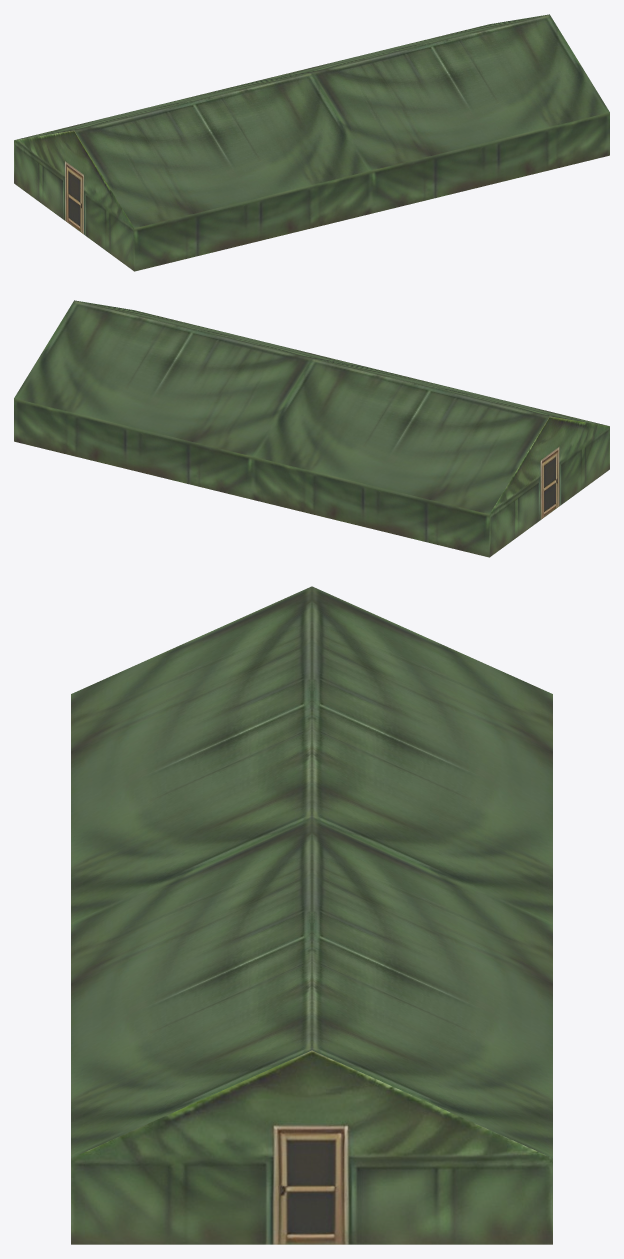
The model's file is longtent_hdtex.glb.
3 views of the same model, one above another, from view 1: azimuth 30°, elevation 25°; view 2: azimuth 150°, elevation 25°; view 3: azimuth 270°, elevation 25° (orthographic). The views are drawn at different scales.
Parts seen in each view (by area): view 1: HQTent; view 2: HQTent; view 3: HQTent.
Boxes of the visible parts, x1=… form: HQTent: x1=14, y1=14, x2=609, y2=271; HQTent: x1=14, y1=300, x2=609, y2=557; HQTent: x1=71, y1=586, x2=552, y2=1244.
Bounding box in the file's own units: 16.18 × 3.16 × 7.1.
Materials: 1 (1 with a texture image).
